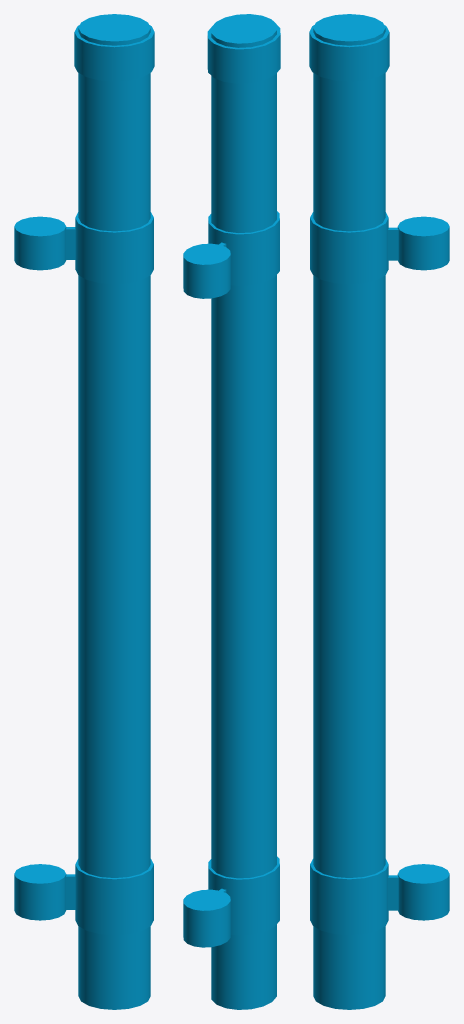
File: Fence_01_Lod0.fbx
The picture shows the model from 3 angles, left to right: view 1: azimuth 90°, elevation 25°; view 2: azimuth 150°, elevation 25°; view 3: azimuth 270°, elevation 25°; orthographic projection.
Parts seen in each view (by area): view 1: Fence_01_Lod0; view 2: Fence_01_Lod0; view 3: Fence_01_Lod0.
Part boxes in pixels (x1,y1,x2,y2): Fence_01_Lod0: [14, 14, 154, 1009]; Fence_01_Lod0: [183, 14, 280, 1009]; Fence_01_Lod0: [309, 14, 449, 1009].
Bounding box in the file's own units: 15.66 × 232 × 30.49.
